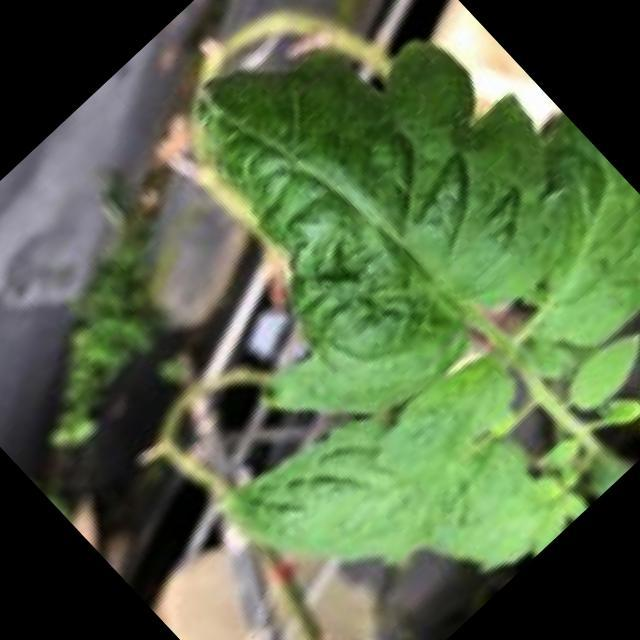Tomato healthy leaf: (186, 35, 640, 572)
